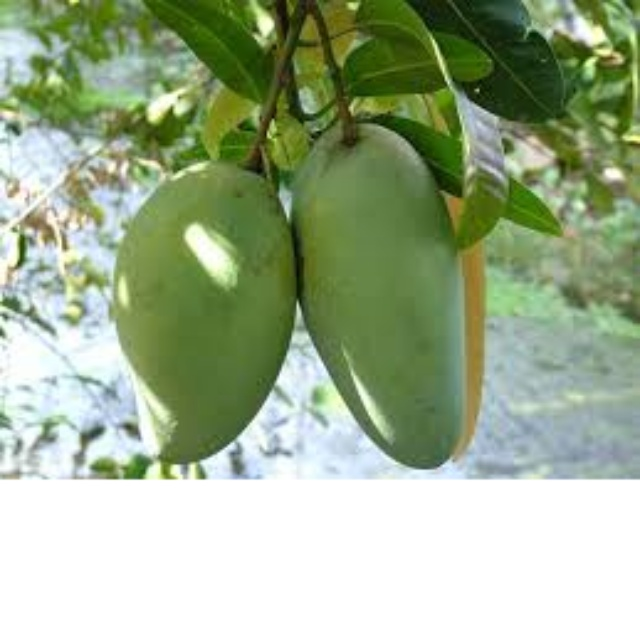thanh_long: (284, 115, 499, 477), (105, 158, 304, 464)
